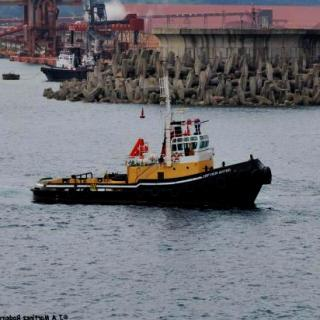Tug Boat: (29, 100, 273, 204)
